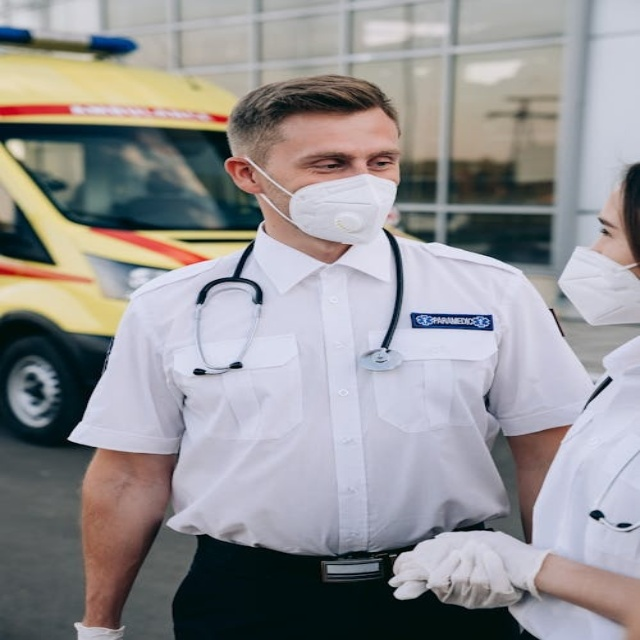Guantes: (388, 529, 548, 611)
Mascara: (253, 160, 396, 245), (557, 244, 640, 326)
Sin_gafas: (285, 143, 404, 177), (570, 209, 623, 253)
